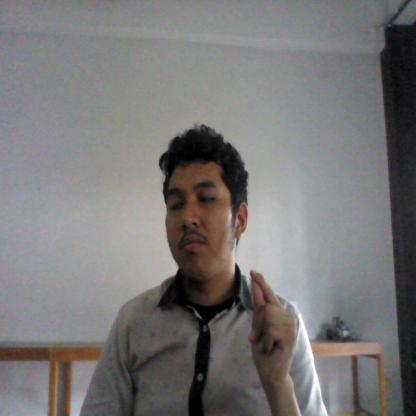R: (238, 265, 304, 382)
